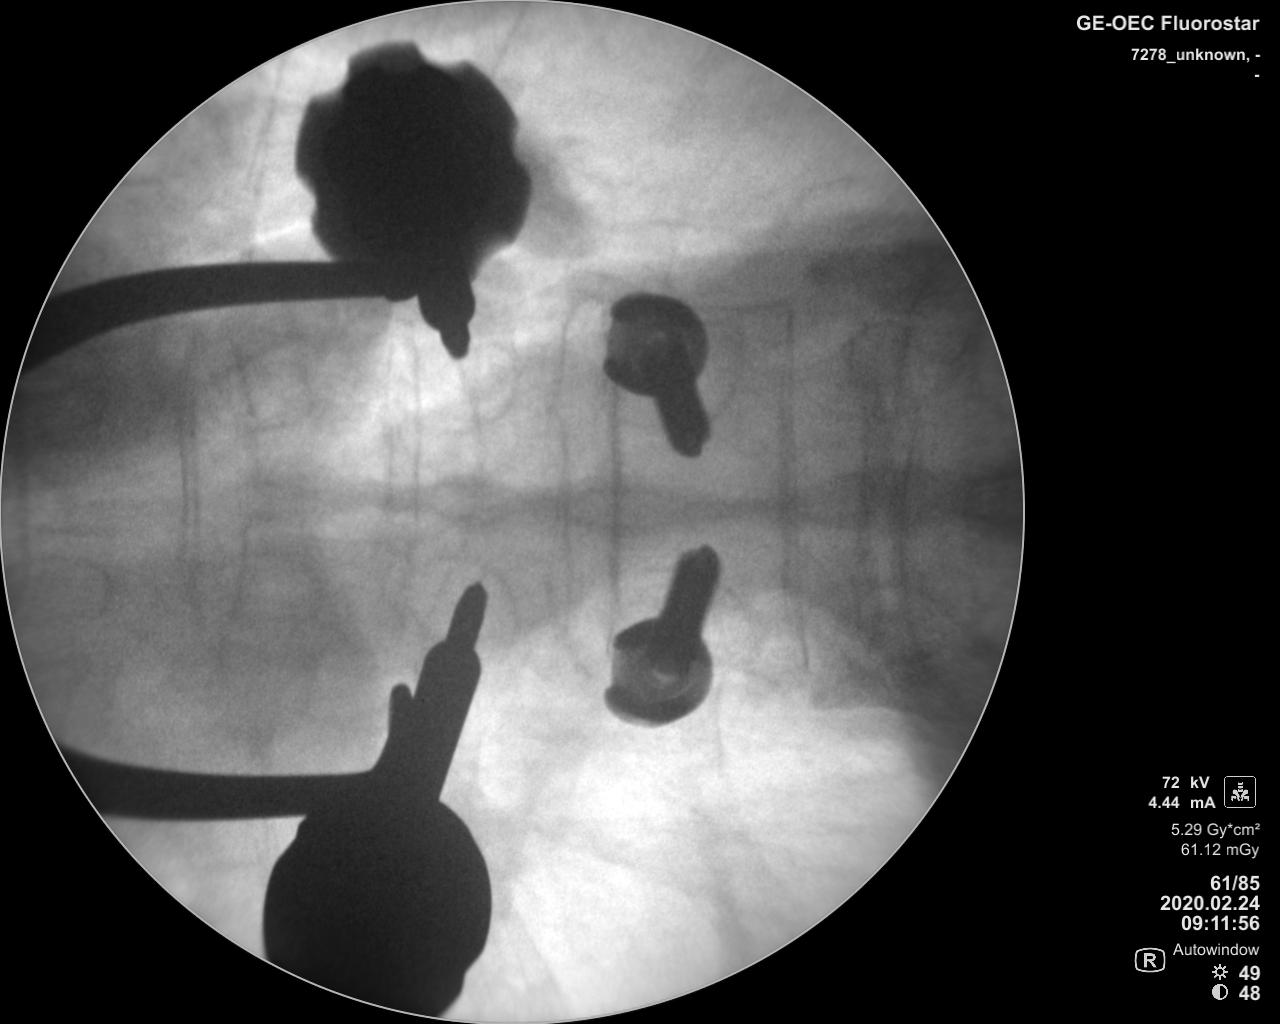eyes: (607, 565, 757, 662), (395, 330, 519, 433), (196, 349, 319, 434), (408, 558, 525, 646), (201, 550, 328, 621)
line: (378, 328, 422, 620), (776, 317, 811, 632), (544, 349, 577, 616), (167, 396, 208, 585), (848, 366, 878, 615), (599, 380, 623, 618)
nose: (787, 462, 947, 534), (552, 474, 715, 539), (393, 465, 537, 528), (223, 461, 367, 516)
